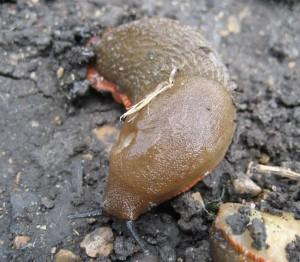slug: (69, 17, 253, 255)
